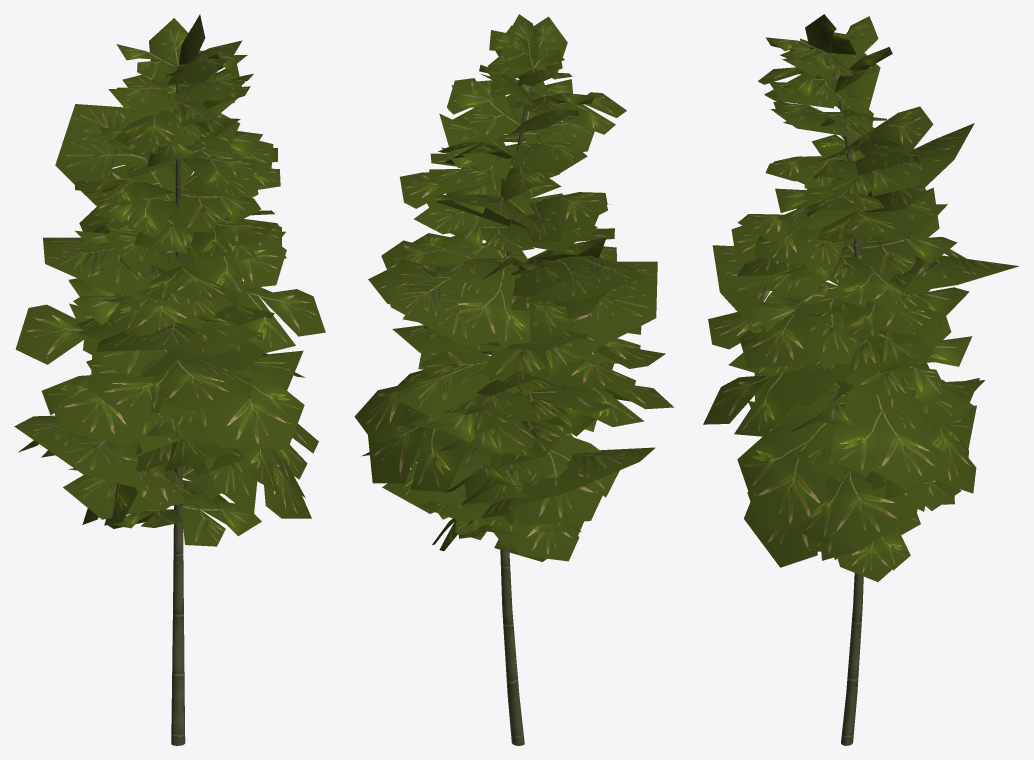
Rendered from Bamboo_B.fbx.
The picture shows the model from 3 angles, left to right: view 1: azimuth 30°, elevation 25°; view 2: azimuth 150°, elevation 25°; view 3: azimuth 270°, elevation 25°; orthographic projection. The views are drawn at different scales.
Parts seen in each view (by area): view 1: Geometry_Bamboo_B_LOD00; view 2: Geometry_Bamboo_B_LOD00; view 3: Geometry_Bamboo_B_LOD00.
Boxes of the visible parts, bbox=[...] form: Geometry_Bamboo_B_LOD00: bbox=[14, 14, 325, 745]; Geometry_Bamboo_B_LOD00: bbox=[354, 14, 674, 745]; Geometry_Bamboo_B_LOD00: bbox=[703, 14, 1019, 745].
Size of what is drawn, in the model's own units: 158 by 384 by 150.
Materials: 2 (2 with a texture image).
